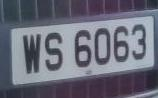0: (91, 22, 113, 69)
3: (132, 19, 149, 68)
6: (72, 22, 94, 75), (111, 21, 133, 69)
S: (41, 28, 67, 75)
W: (18, 30, 44, 78)
